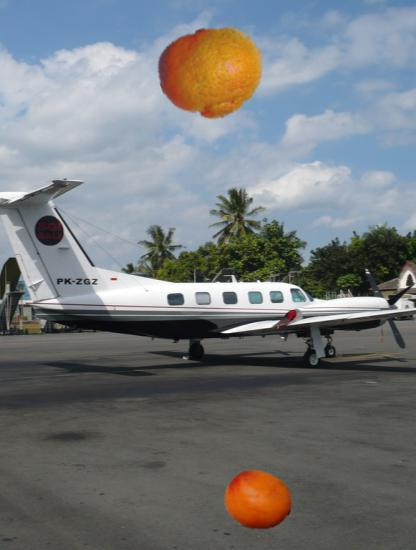Apricot: (224, 467, 292, 535)
Mandarine: (159, 20, 266, 127)
